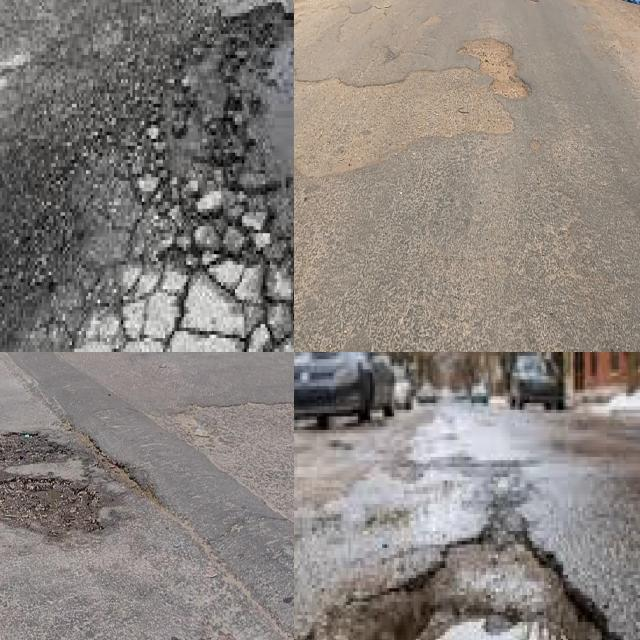Pothole: (294, 38, 529, 178), (397, 511, 583, 640), (0, 480, 103, 539), (0, 431, 69, 469), (294, 5, 349, 43), (339, 6, 382, 41), (422, 14, 442, 27)
